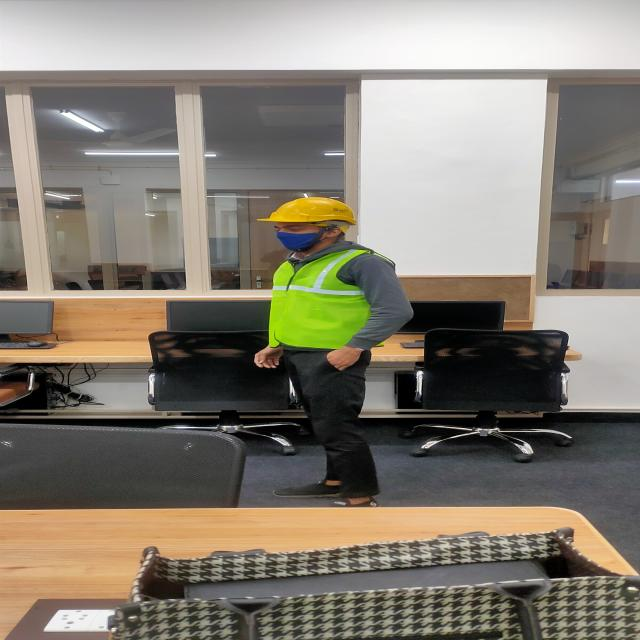safe: (252, 191, 416, 506)
